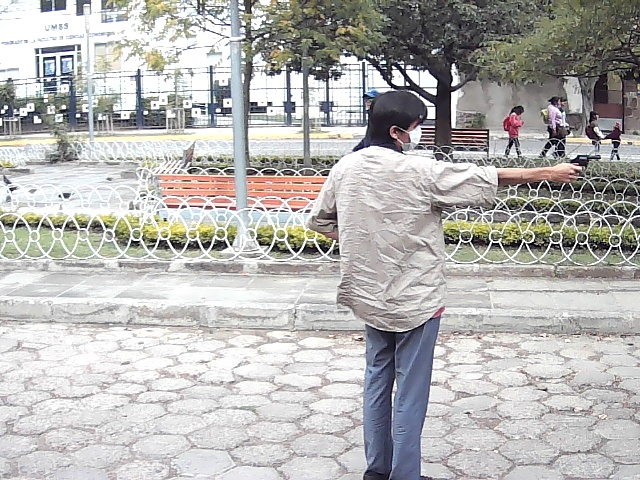pistola: (548, 147, 606, 189)
